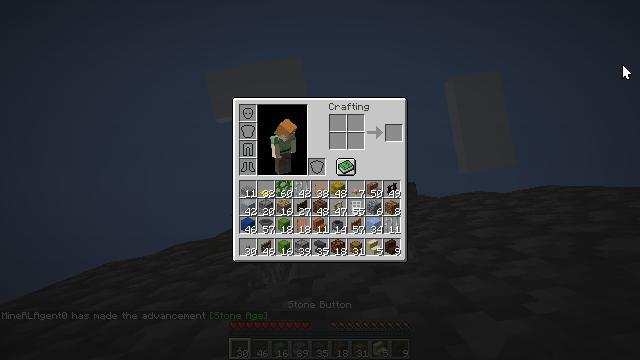cursor: (622, 64, 632, 80)
